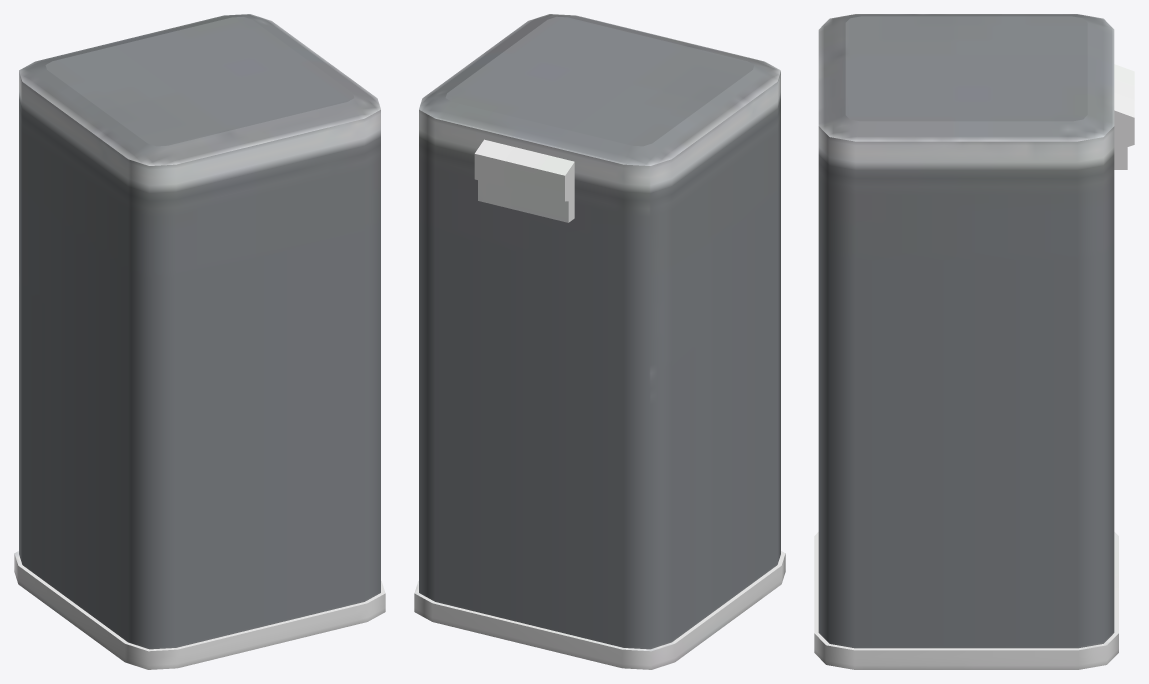
File: pedal-bin.gltf
The picture shows the model from 3 angles, left to right: view 1: azimuth 30°, elevation 25°; view 2: azimuth 150°, elevation 25°; view 3: azimuth 270°, elevation 25°; orthographic projection. The views are drawn at different scales.
Visible parts, largest first — view 1: Trash_Can; view 2: Trash_Can; view 3: Trash_Can.
Boxes of the visible parts, left/top/right/bottom form: Trash_Can: left=14, top=14, right=385, bottom=669; Trash_Can: left=414, top=14, right=785, bottom=669; Trash_Can: left=814, top=14, right=1134, bottom=669.
Size of the model in its own units: 0.2761 by 0.5243 by 0.2843.
1 material, 1 textured.
